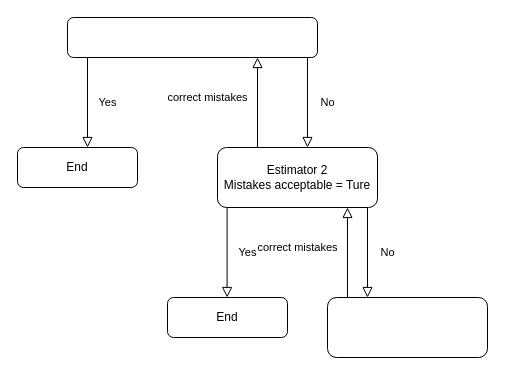
Some shapes in this 505 by 375 pixel diagram are drawn without their labels. The box of each missing label's shape, as (x1, y1, x2, y2) in pixels:
Estimator 1 Mistakes acceptable = Ture: (66, 16, 318, 58)
Estimator 3 Mistakes acceptable = Ture: (326, 296, 488, 358)
